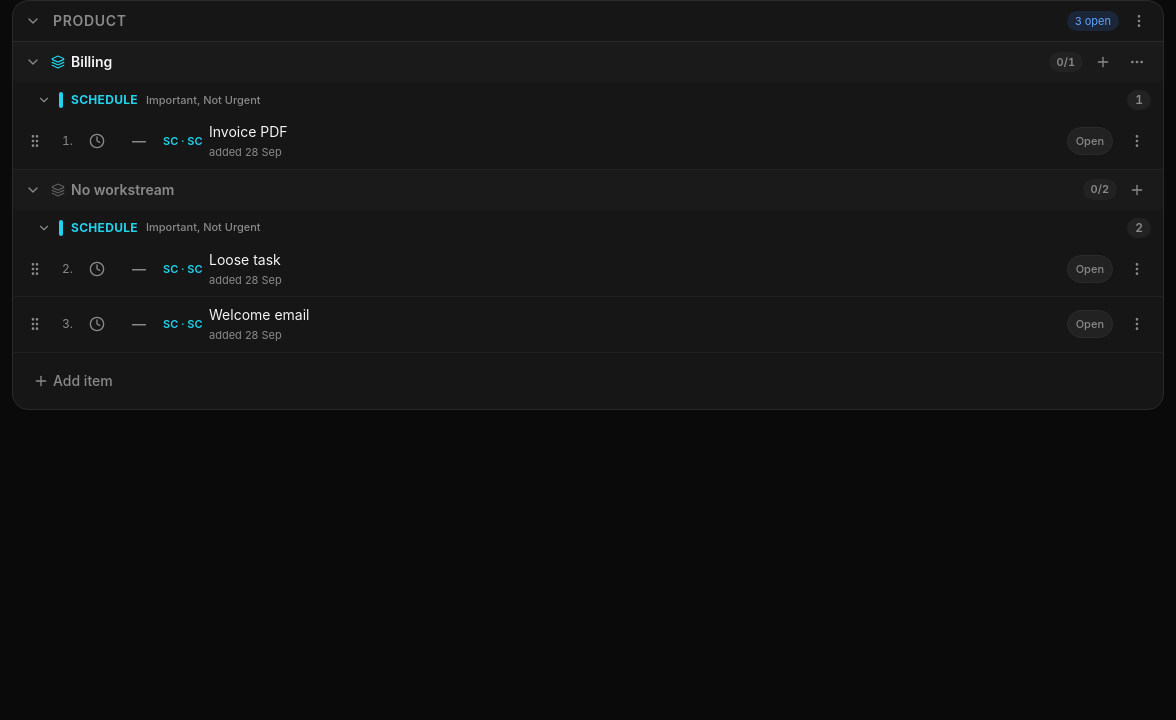
Test: SectionColumn workstreams › opens an add-task composer inside a workstream
Click the button named "Add task to Billing" at [1103, 62], box [1089,48,1117,76]
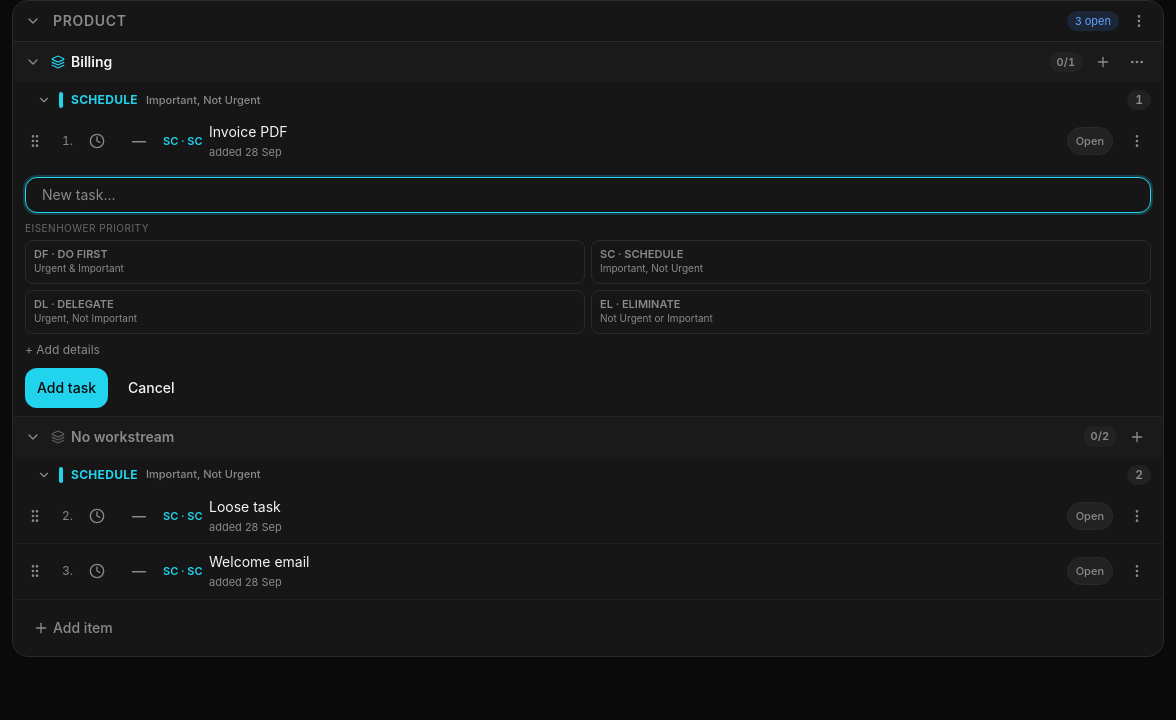
Check: the field named "Task title" is shown, box [25,176,1151,212]
